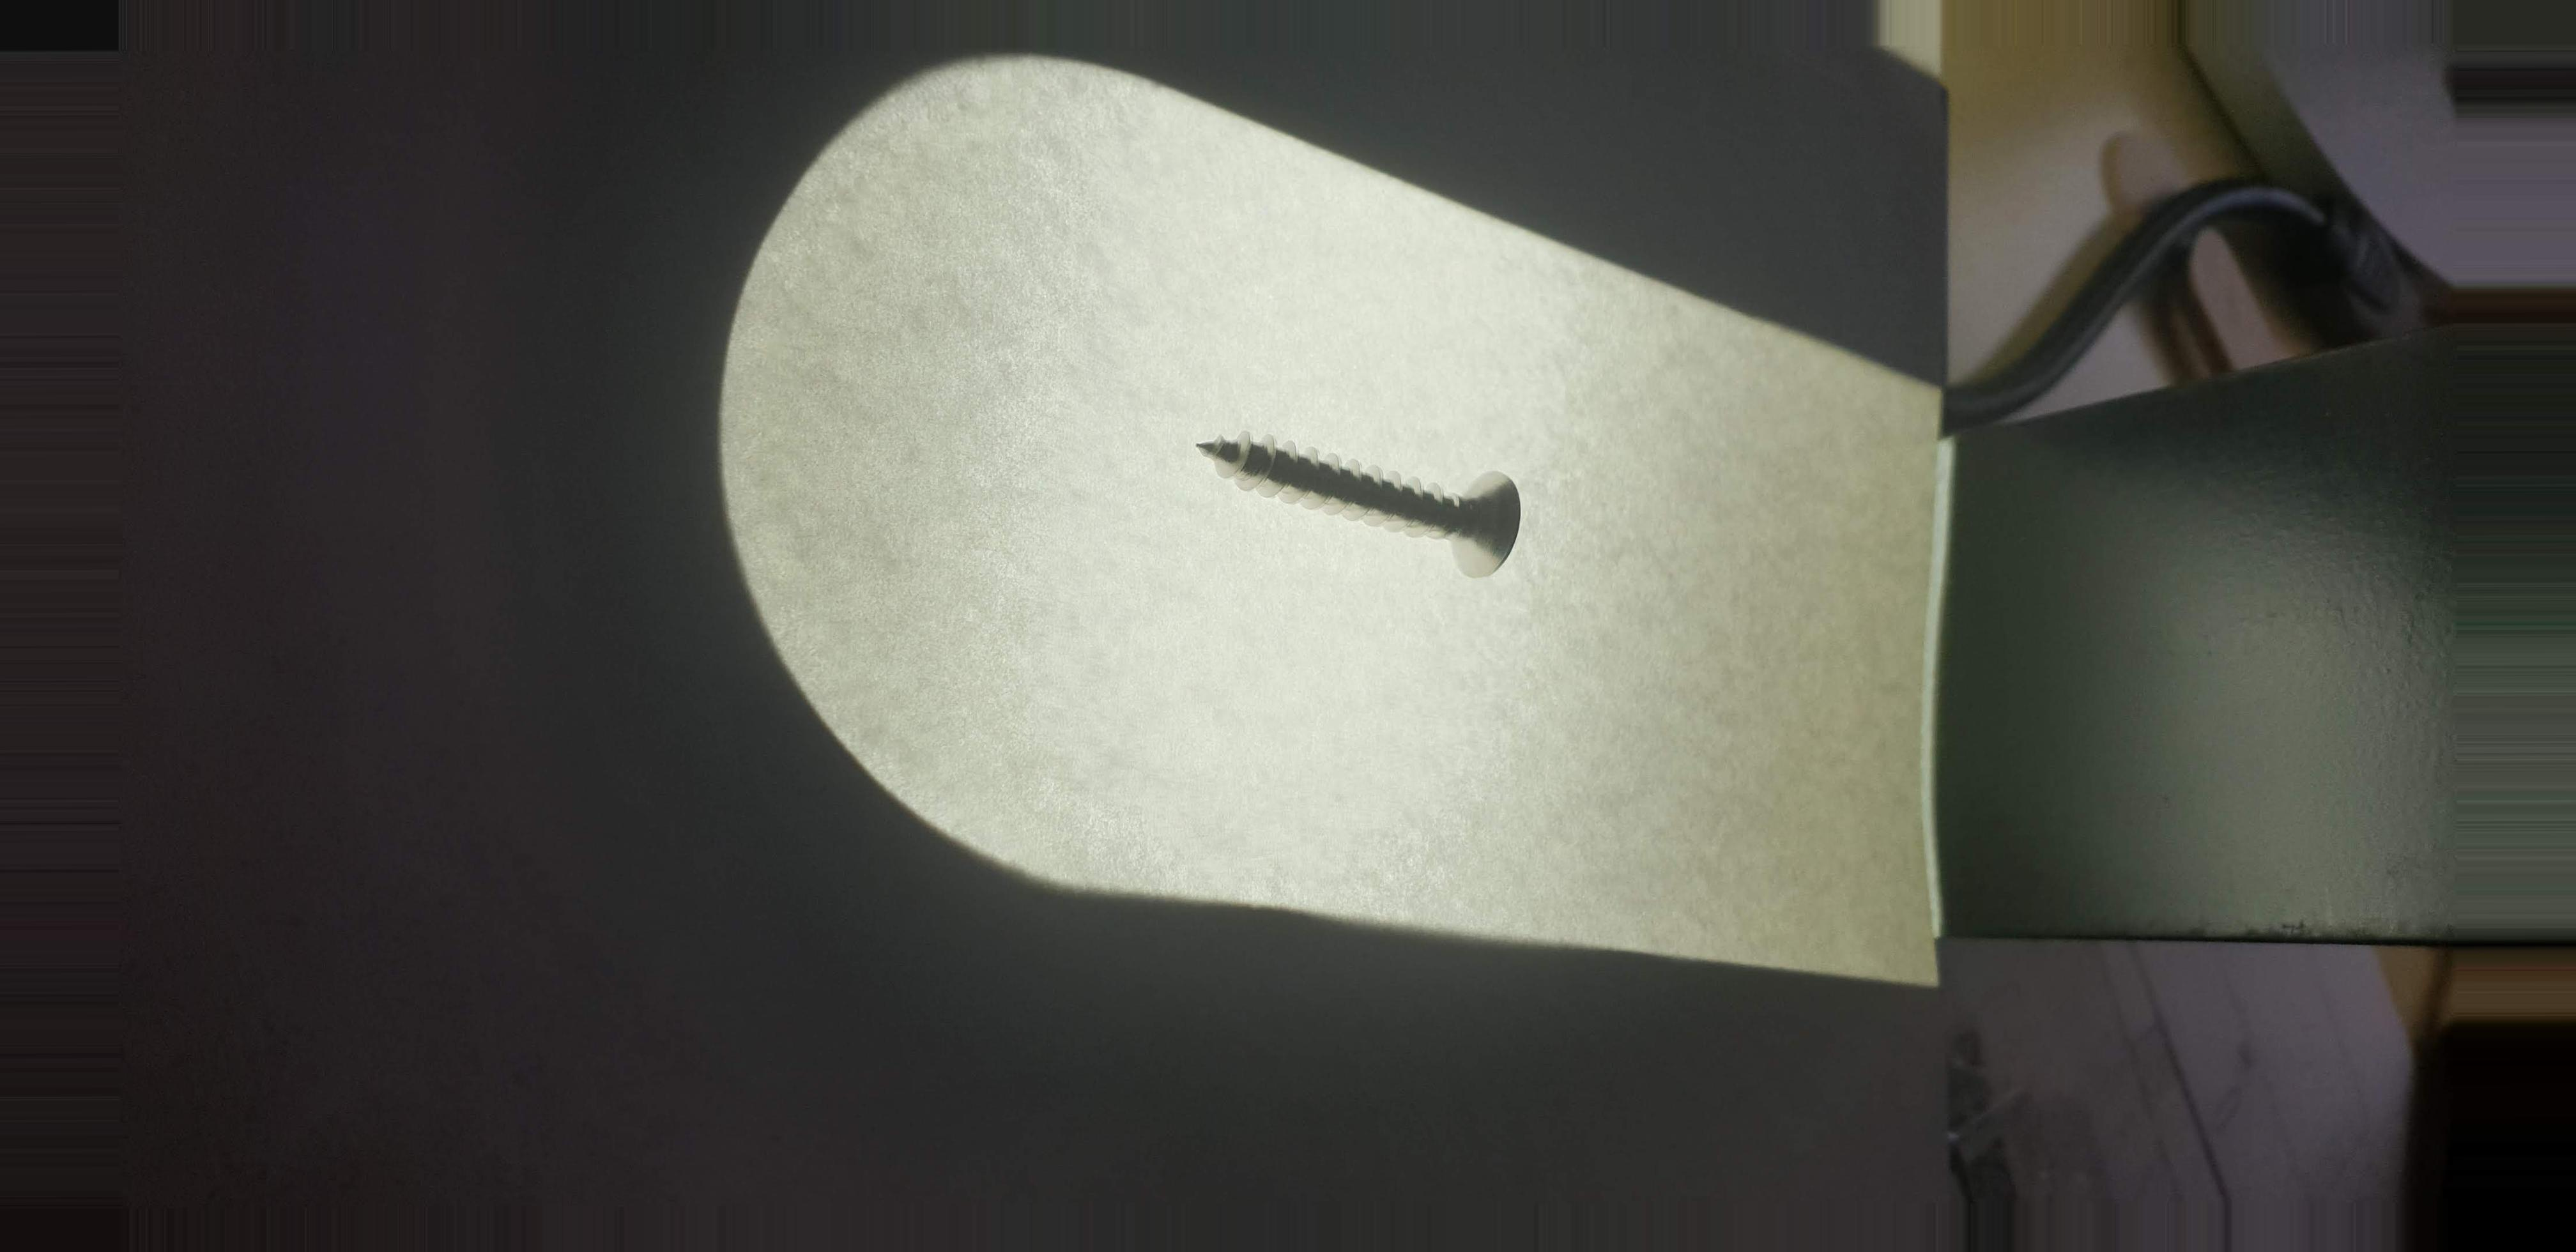S004: (1171, 388, 1571, 628)
